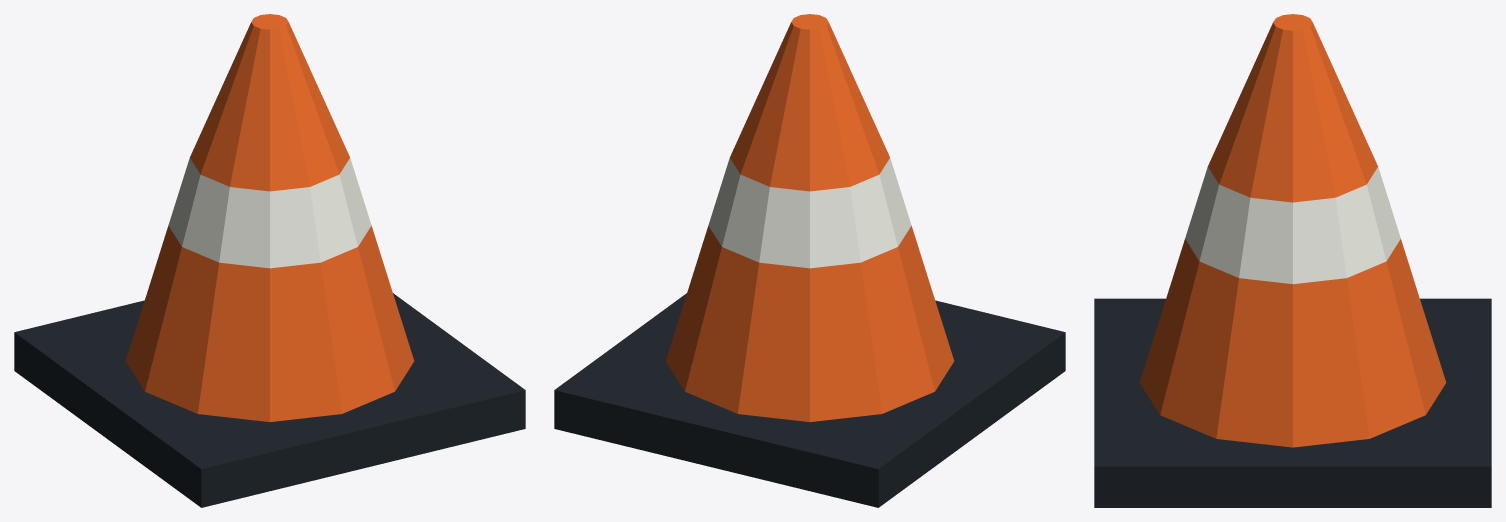
The model's file is traffic_cone.glb.
3 views of the same model, side by side, from view 1: azimuth 30°, elevation 25°; view 2: azimuth 150°, elevation 25°; view 3: azimuth 270°, elevation 25° (orthographic). The views are drawn at different scales.
Visible parts, largest first — view 1: Weighted square base, Orange lower shell, Orange tip, White reflective band; view 2: Weighted square base, Orange lower shell, Orange tip, White reflective band; view 3: Orange lower shell, Weighted square base, Orange tip, White reflective band.
Boxes of the visible parts, bbox=[...] form: Weighted square base: bbox=[14, 293, 525, 507]; Orange lower shell: bbox=[125, 226, 414, 421]; Orange tip: bbox=[190, 14, 349, 191]; White reflective band: bbox=[168, 158, 371, 268]; Weighted square base: bbox=[554, 293, 1065, 507]; Orange lower shell: bbox=[665, 226, 954, 421]; Orange tip: bbox=[730, 14, 889, 191]; White reflective band: bbox=[708, 158, 911, 268]; Orange lower shell: bbox=[1139, 239, 1446, 447]; Weighted square base: bbox=[1094, 298, 1491, 507]; Orange tip: bbox=[1208, 14, 1377, 202]; White reflective band: bbox=[1185, 167, 1400, 284].
Bounding box in the file's own units: 0.7 × 0.78 × 0.7.
